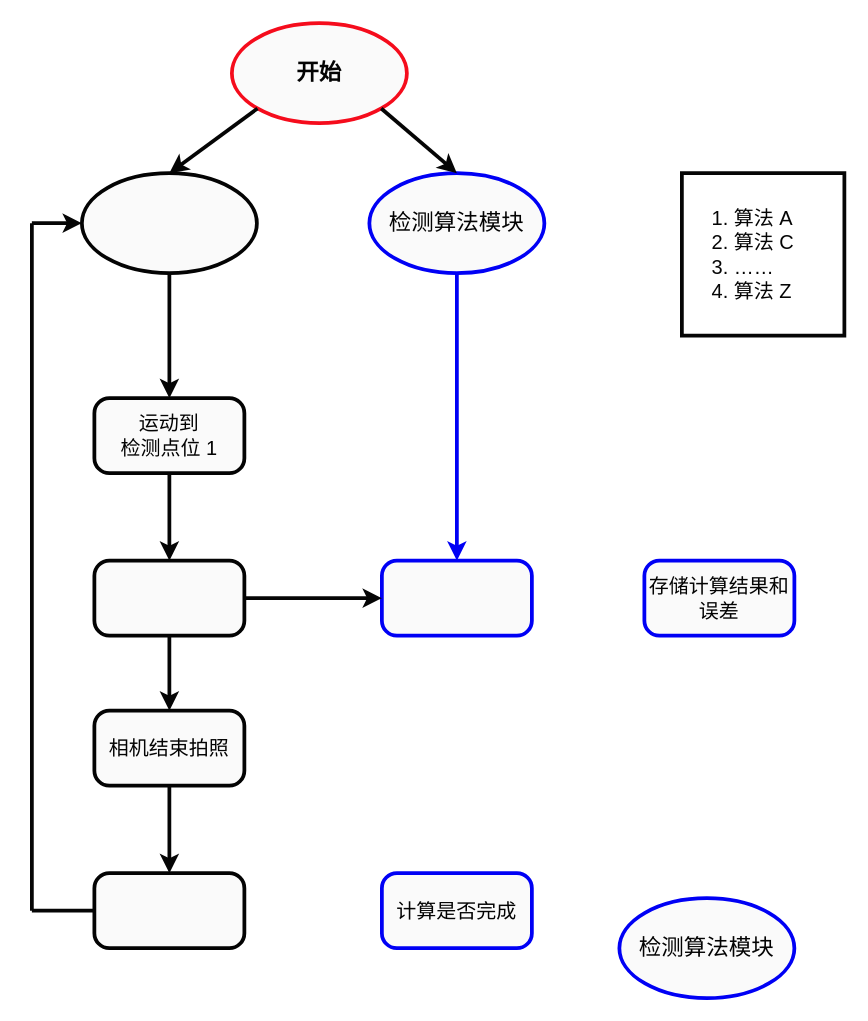
This 868x1021 diagram has some shape labels left out. Each missing label, with the box of its shape:
机器人开始运动: (79, 171, 258, 274)
检测点位是否走完？: (92, 871, 246, 949)
相机开始拍照: (92, 558, 246, 637)
调用对应算法A进行计算: (379, 558, 533, 637)
